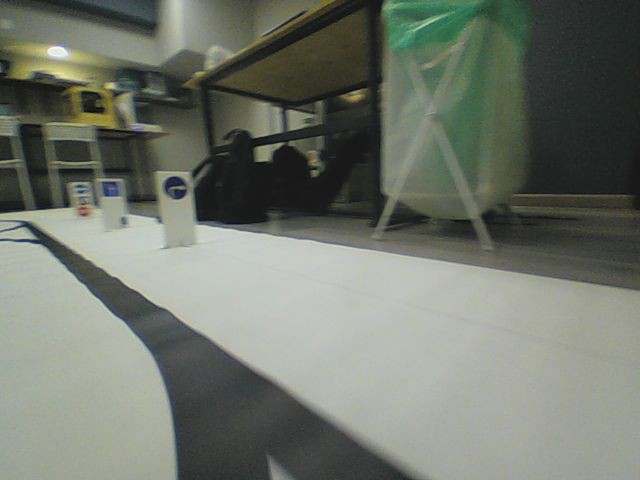Right: (163, 175, 188, 200)
